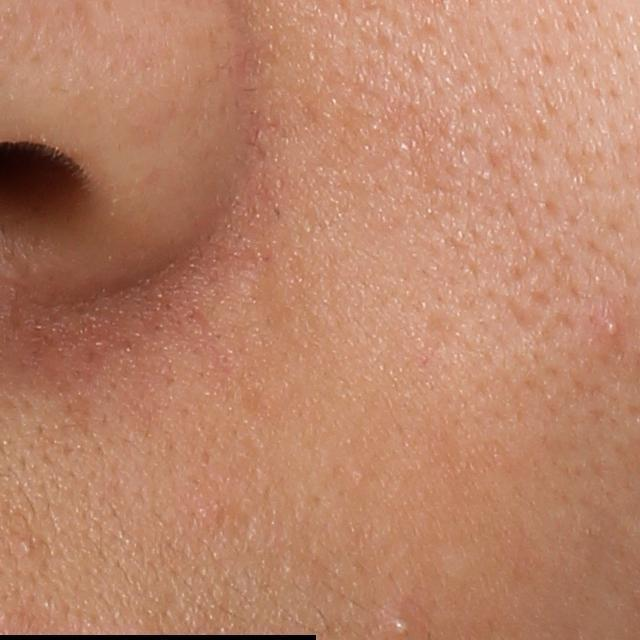atrophic_scar: (503, 296, 549, 341)
comedo: (18, 538, 34, 554)
pustule: (599, 312, 626, 346)
